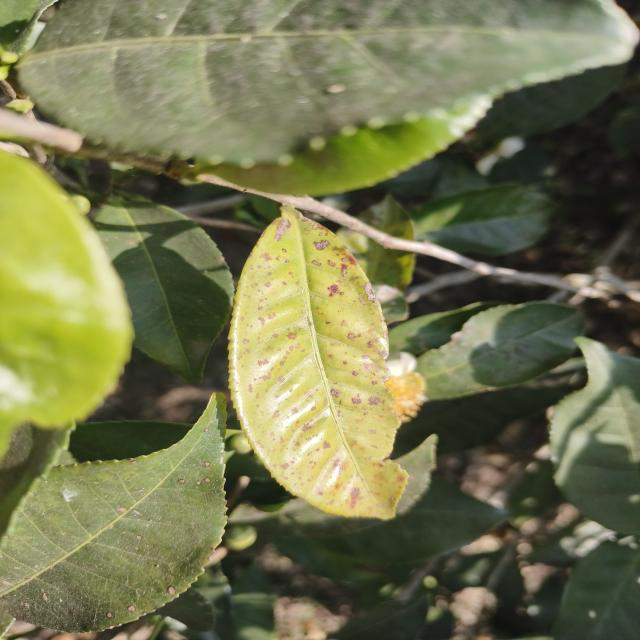Leaf: (18, 0, 636, 160), (230, 206, 406, 519), (0, 395, 226, 632), (0, 151, 133, 453), (200, 96, 487, 196), (93, 198, 234, 383), (276, 476, 507, 565), (551, 338, 640, 534), (418, 301, 583, 400), (476, 63, 627, 142), (410, 185, 553, 256), (554, 541, 640, 640), (230, 498, 391, 536), (337, 228, 415, 291), (392, 434, 438, 516), (359, 195, 414, 241)
